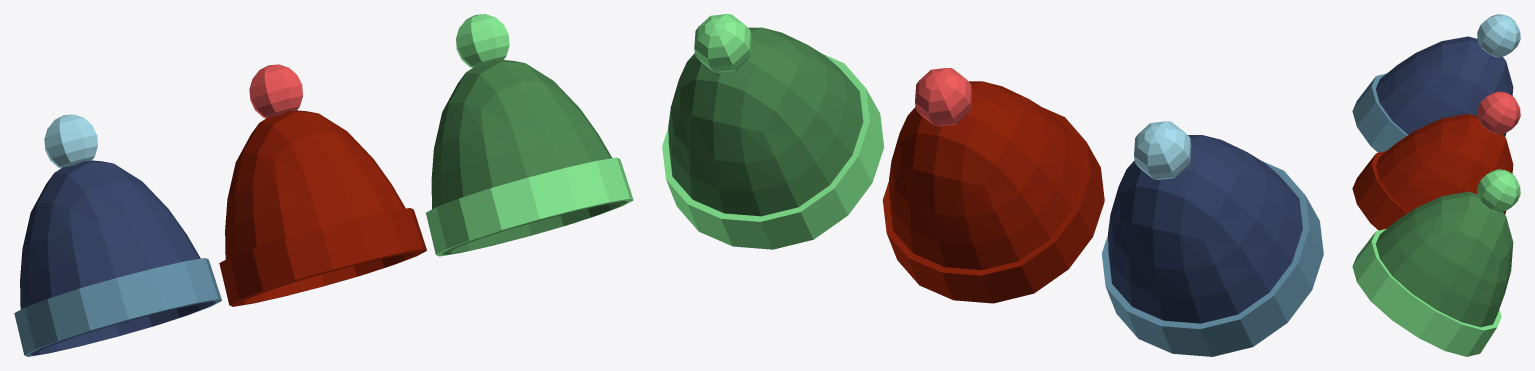
Rendered from 81nsVRXaniY.glb.
3 renders of one model, left to right at view 1: azimuth 30°, elevation 25°; view 2: azimuth 150°, elevation 25°; view 3: azimuth 270°, elevation 25°, orthographic. The views are drawn at different scales.
Parts seen in each view (by area): view 1: Node; view 2: Node; view 3: Node.
Boxes of the visible parts, x1,y1,x2,y2 form: Node: (14, 14, 633, 356); Node: (662, 14, 1323, 356); Node: (1352, 14, 1520, 356).
Bounding box in the file's own units: 2.77 × 1 × 0.8872.
